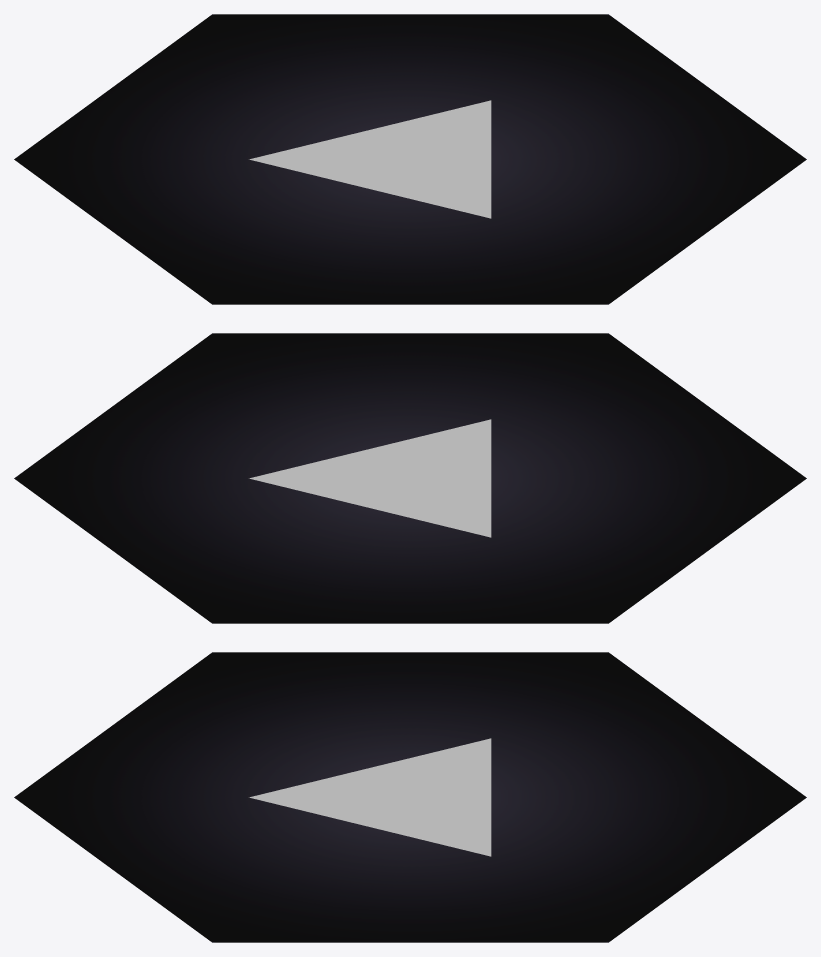
The model's file is Arena_new.fbx.
3 renders of one model, top to bottom at view 1: azimuth 30°, elevation 25°; view 2: azimuth 150°, elevation 25°; view 3: azimuth 270°, elevation 25°, orthographic.
Parts seen in each view (by area): view 1: Arena; view 2: Arena; view 3: Arena.
Part boxes in pixels (x1,y1,x2,y2): Arena: (14, 14, 806, 304); Arena: (14, 333, 806, 623); Arena: (14, 652, 806, 942).
Bounding box in the file's own units: 33909 × 0.00638 × 39154.
